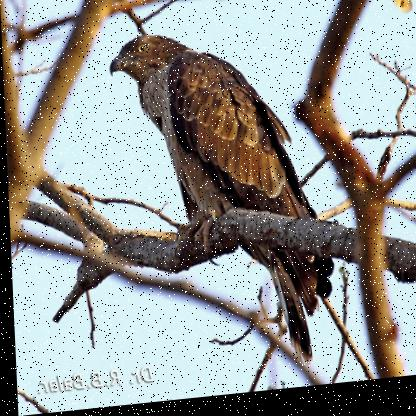Burung: (105, 17, 349, 387)
